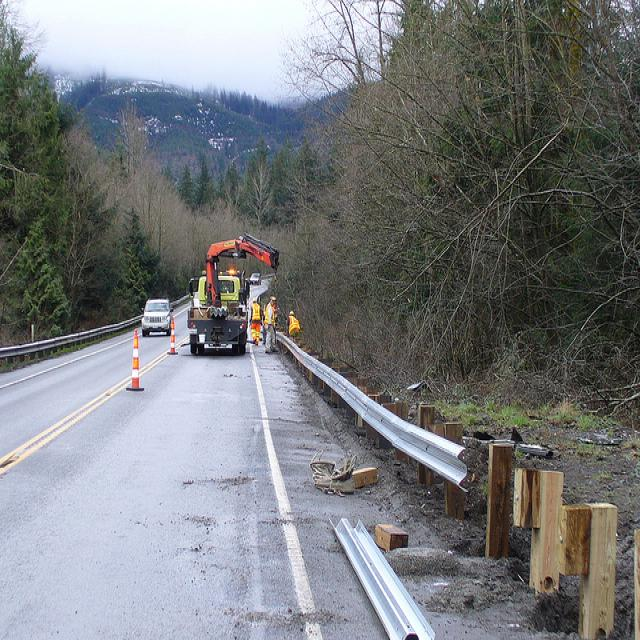Vehicle: (185, 233, 280, 355), (140, 298, 174, 337), (250, 273, 261, 284)
